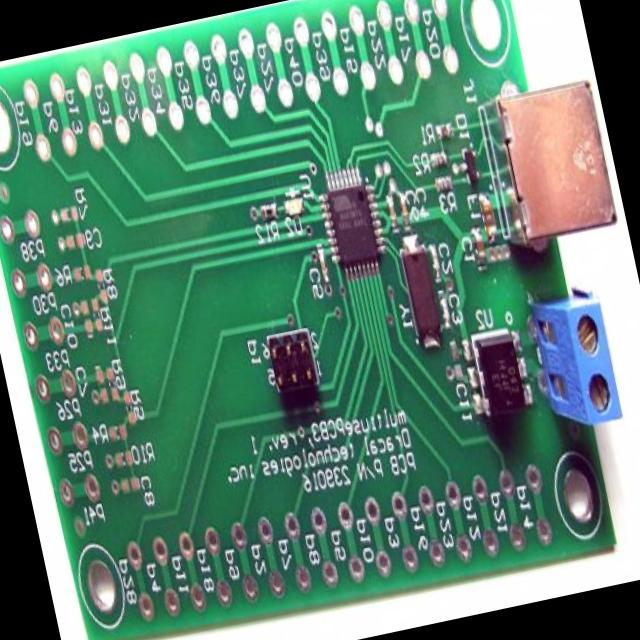IC: (314, 165, 390, 282), (461, 325, 534, 421)
LED: (284, 198, 304, 216)
capacitor: (438, 291, 450, 325), (472, 233, 486, 260), (386, 198, 398, 220), (430, 250, 440, 276), (398, 197, 409, 220), (318, 253, 328, 276)
connector: (479, 82, 615, 235), (531, 300, 621, 417), (269, 334, 319, 395)
resistor: (430, 154, 448, 169), (260, 205, 277, 220), (438, 126, 451, 141), (437, 177, 452, 190)
transistor: (459, 148, 479, 182)
